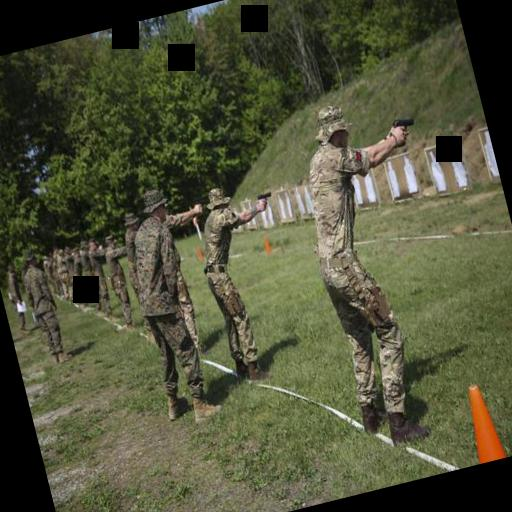Handgun: (386, 110, 420, 148), (252, 184, 275, 212), (192, 194, 208, 218)
